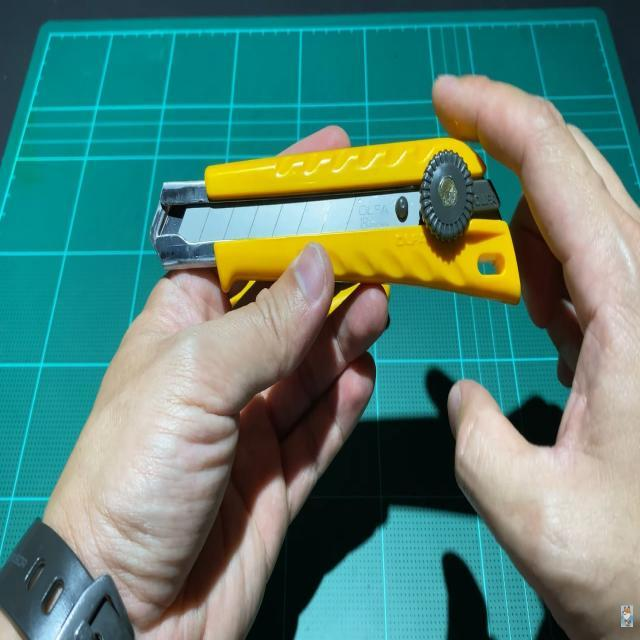cutter: (117, 42, 634, 482)
